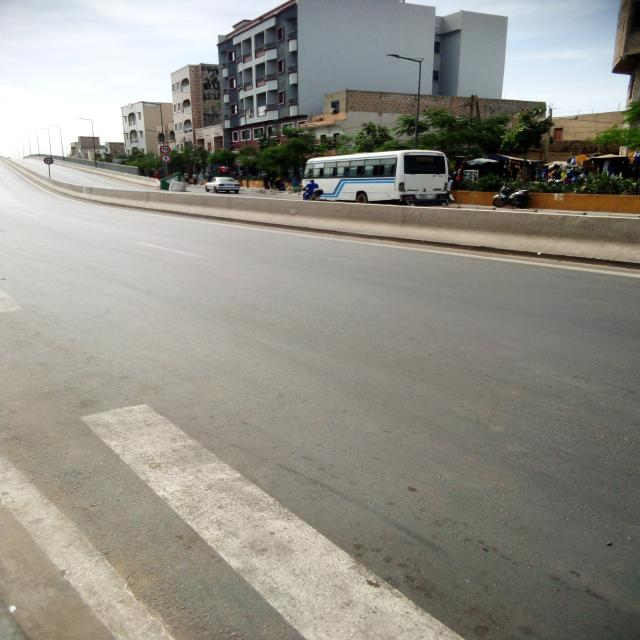bus tata: (304, 151, 451, 207)
moto: (493, 185, 531, 210), (309, 190, 324, 201)
particulier: (206, 179, 241, 195)
